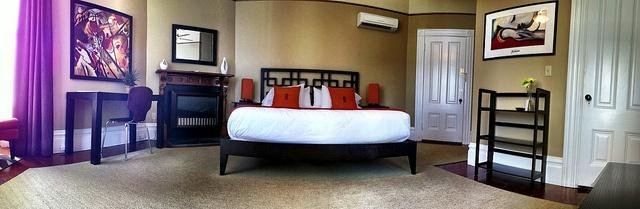AC: (355, 10, 398, 33)
Kursi: (99, 85, 152, 159)
Meja: (65, 90, 163, 118)
Rak: (472, 86, 550, 185)
